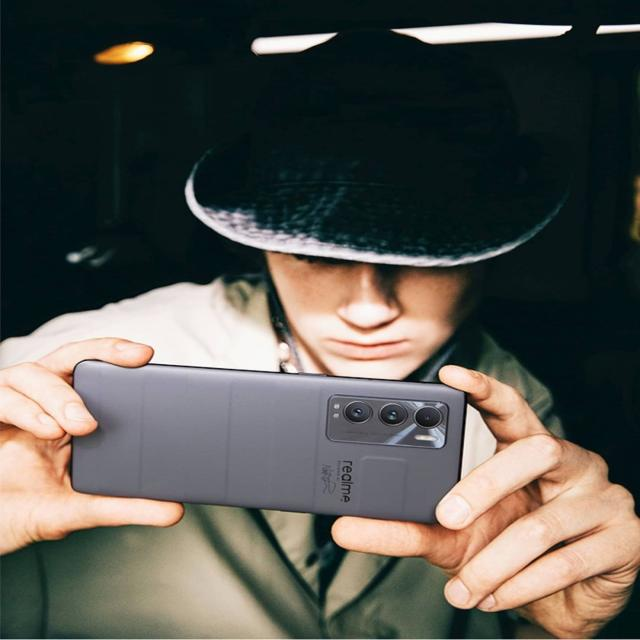phone: (51, 351, 481, 547)
